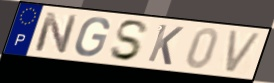0: (183, 27, 222, 72)
G: (73, 16, 112, 59)
K: (145, 23, 186, 67)
N: (32, 10, 80, 56)
S: (108, 19, 151, 63)
V: (222, 28, 265, 75)
